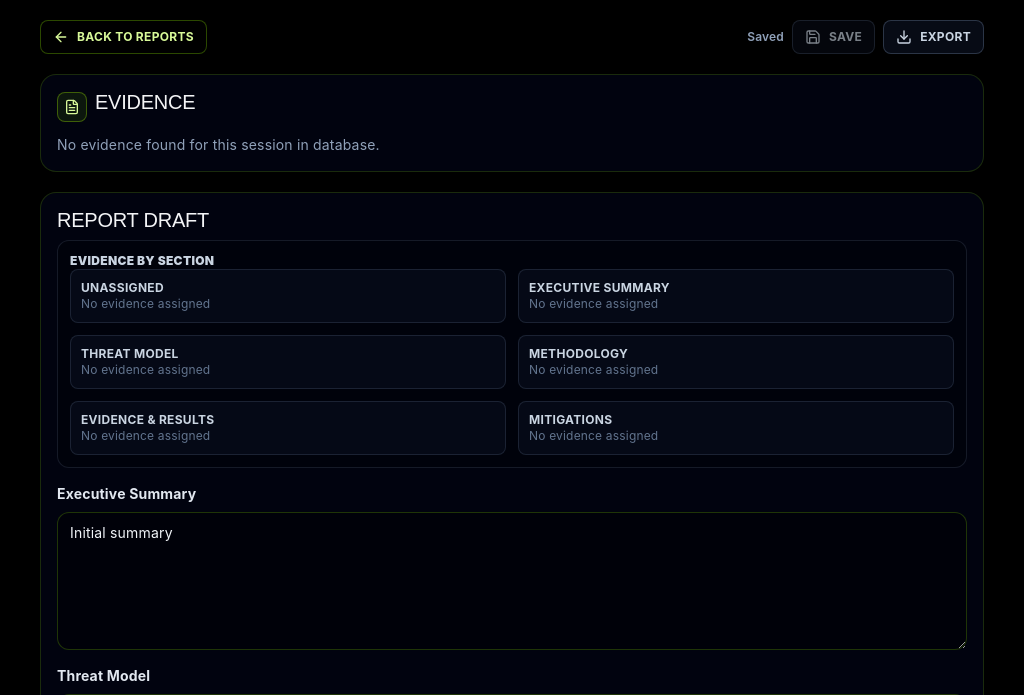
Test: SessionReportPage evidence selection › serializes saves and preserves edits made while a save is in flight
Replace the text in the text box labelled "Executive Summary" with "First edit": point(512, 581) [57,512,967,650]
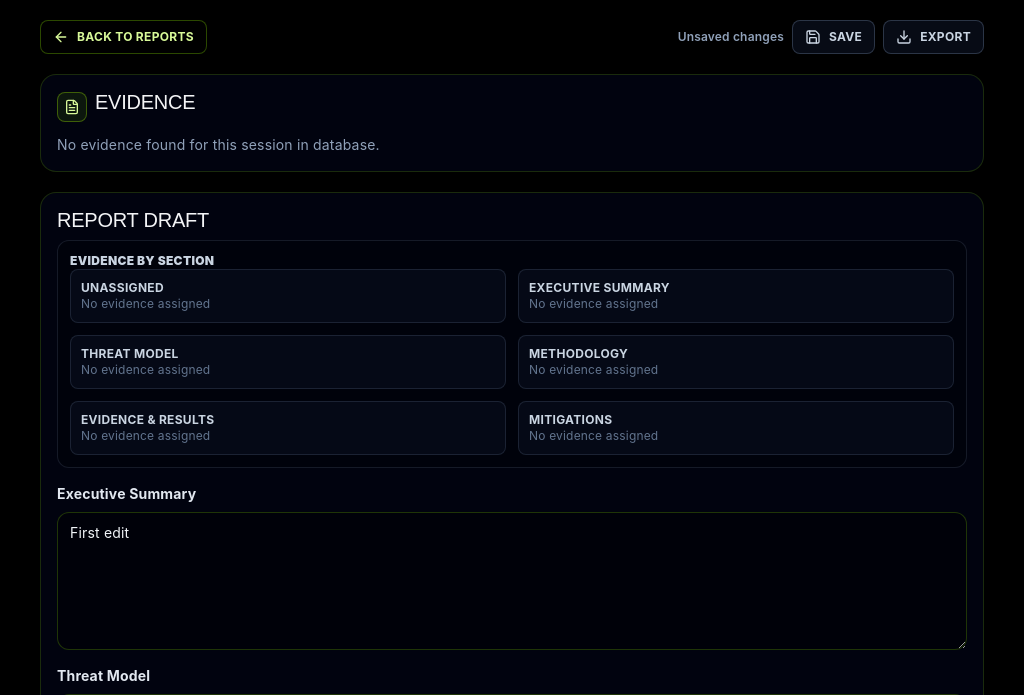
Click the button "Save": point(834, 37) [792,20,875,54]
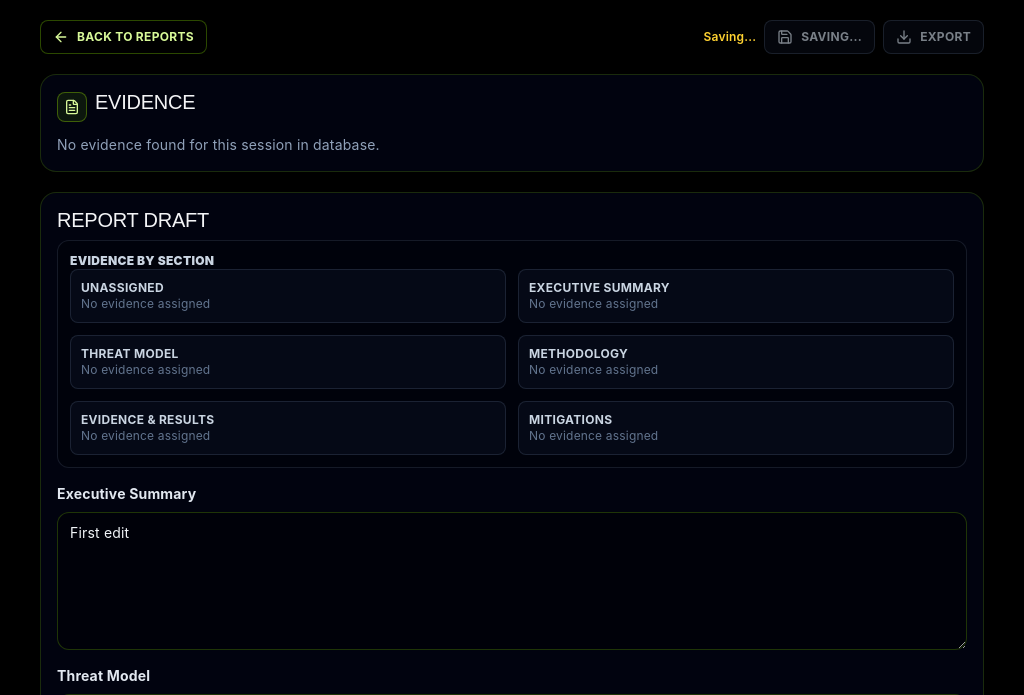
Result: the message reads "Saving..." at [704,29,756,44]
Replace the text in the text box labelled "Executive Summary" with "Second edit": point(512, 581) [57,512,967,650]
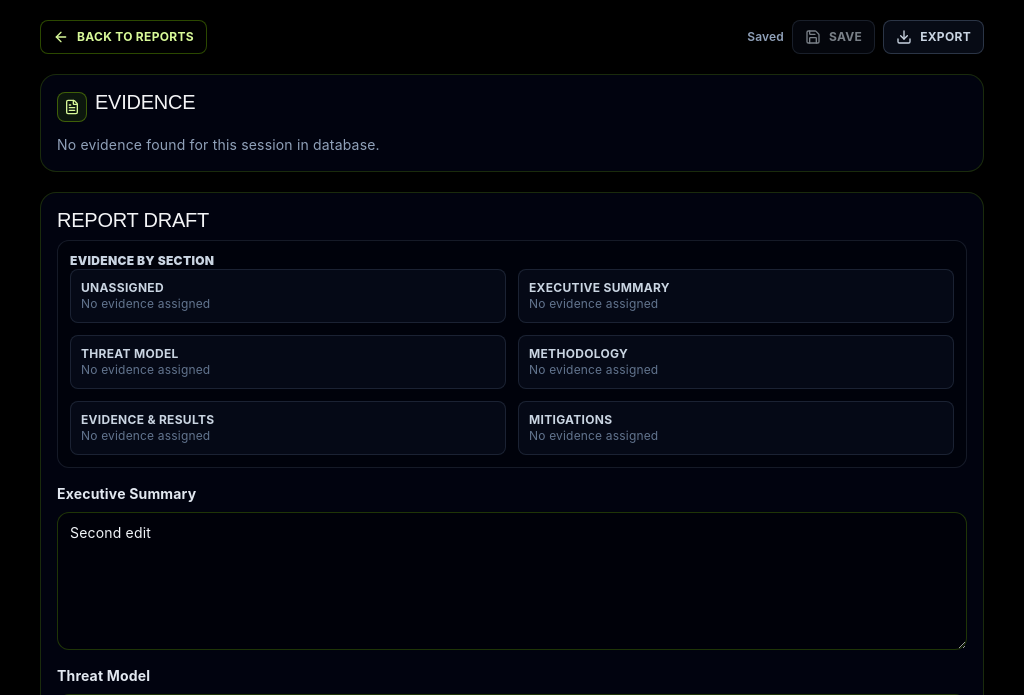
Result: the message reads "Saved" at [747,29,784,44]
